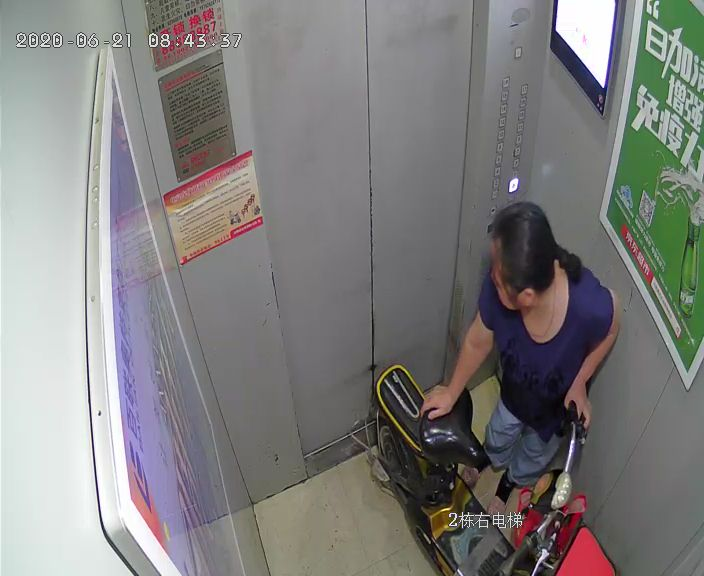Electric-bicycle: (346, 358, 616, 576)
